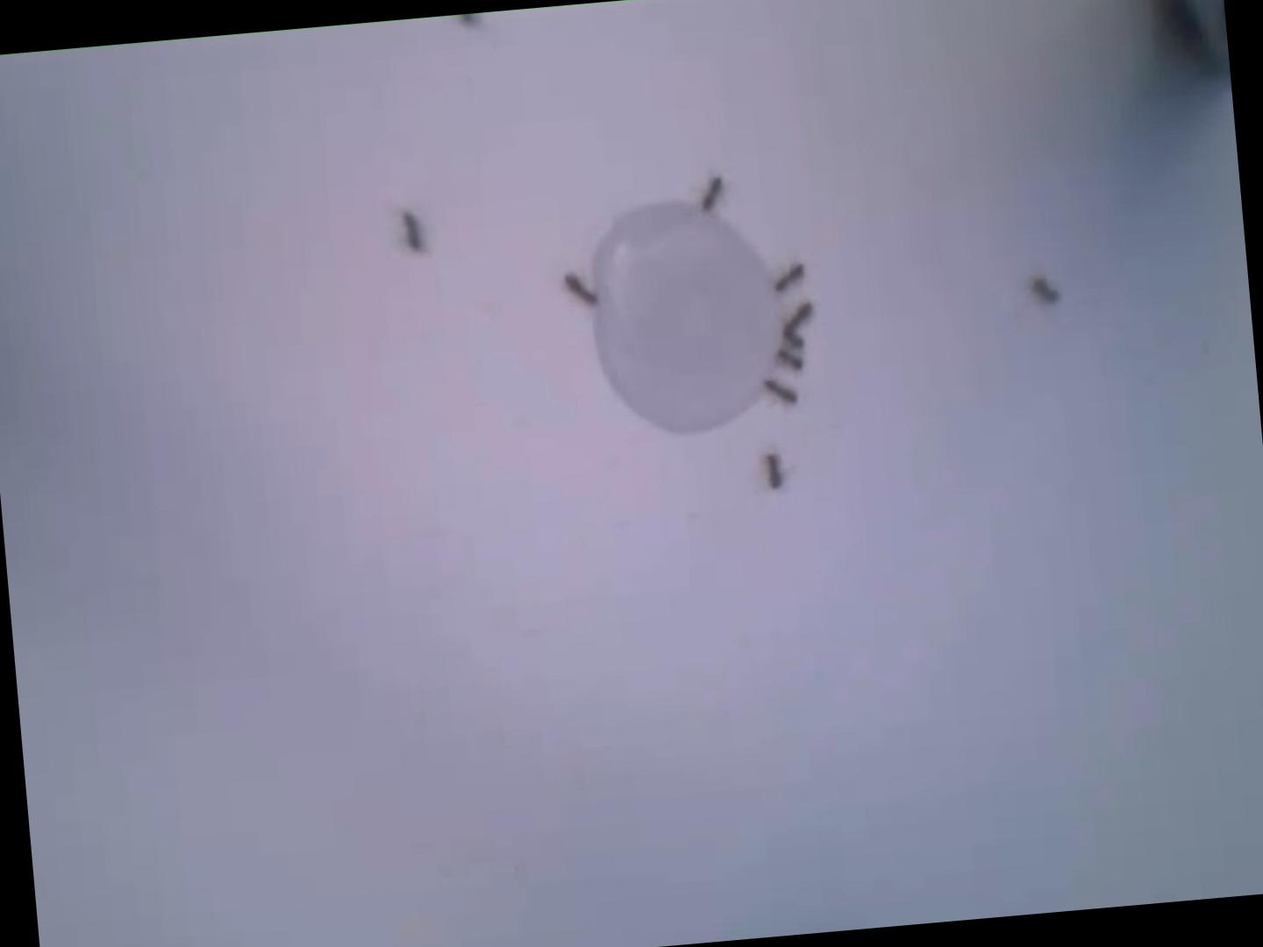Ant: (562, 271, 597, 308), (396, 208, 423, 254), (770, 260, 806, 294), (760, 377, 796, 408), (697, 174, 725, 213), (784, 299, 815, 333), (773, 347, 804, 376), (759, 452, 782, 491), (1028, 276, 1057, 306), (781, 326, 806, 352), (452, 11, 481, 28)
